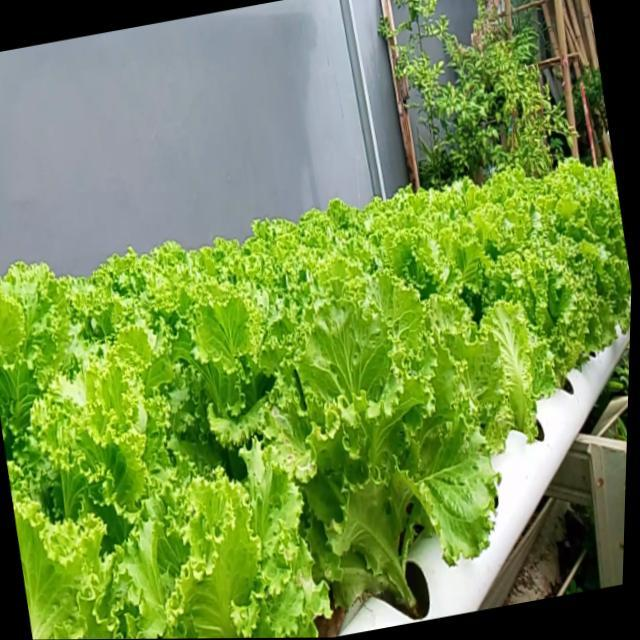Mature: (0, 161, 631, 640), (267, 290, 488, 626), (488, 245, 603, 413)
